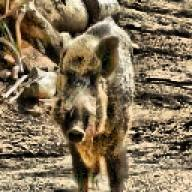boar: (48, 13, 135, 192)
